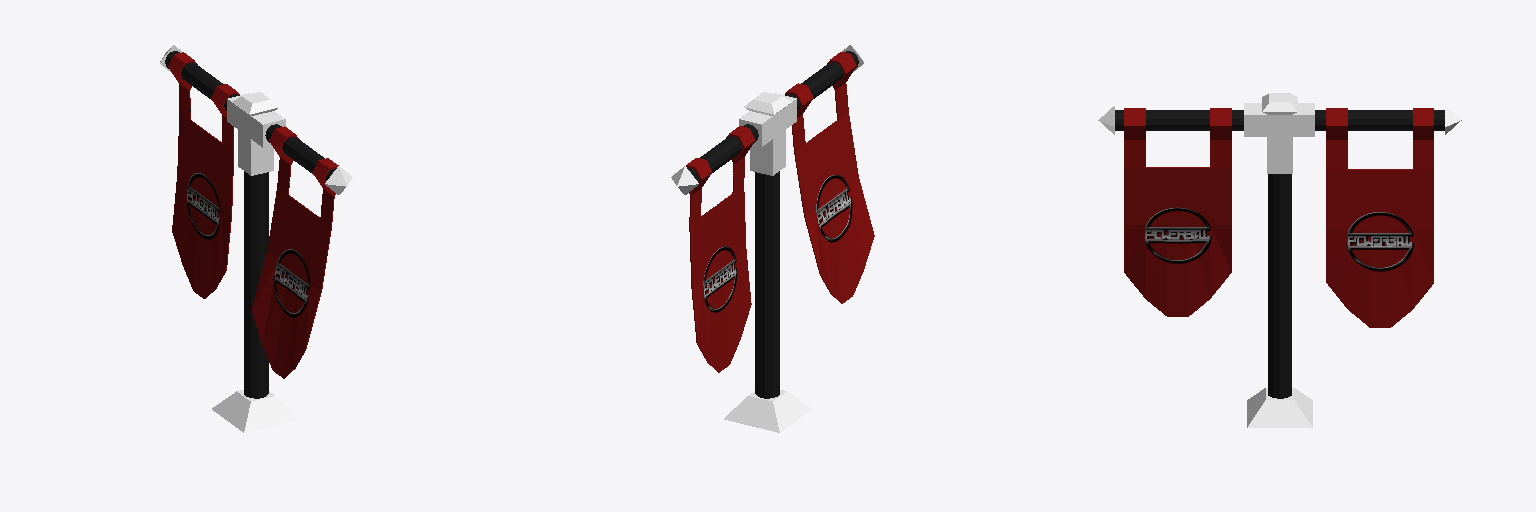
3 renders of one model, left to right at view 1: azimuth 30°, elevation 25°; view 2: azimuth 150°, elevation 25°; view 3: azimuth 270°, elevation 25°, orthographic.
Visible parts, largest first — view 1: polySurface2; view 2: polySurface2; view 3: polySurface2.
Boxes of the visible parts, box(x1,y1,x2,y2) form: polySurface2: box(160, 45, 352, 432); polySurface2: box(671, 45, 874, 432); polySurface2: box(1098, 93, 1461, 427).
Bounding box in the file's own units: 1.01 × 5.29 × 5.51.
Materials: 4 (1 with a texture image).